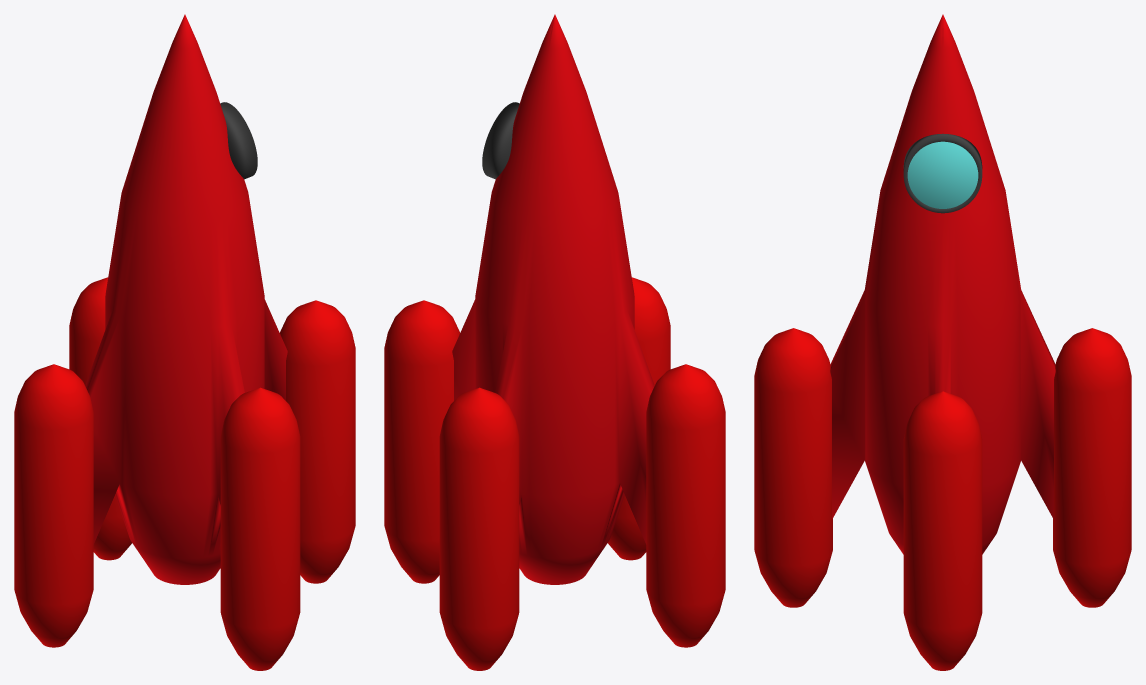
The model's file is rocket.fbx.
The picture shows the model from 3 angles, left to right: view 1: azimuth 30°, elevation 25°; view 2: azimuth 150°, elevation 25°; view 3: azimuth 270°, elevation 25°; orthographic projection.
Visible parts, largest first — view 1: body, engines, windowframe; view 2: body, engines, windowframe; view 3: engines, body, window, windowframe.
Boxes of the visible parts, bbox=[...] form: body: bbox=[85, 14, 287, 584]; engines: bbox=[14, 277, 355, 670]; windowframe: bbox=[220, 102, 257, 179]; body: bbox=[452, 14, 654, 584]; engines: bbox=[384, 277, 725, 670]; windowframe: bbox=[482, 102, 519, 179]; engines: bbox=[754, 328, 1131, 670]; body: bbox=[830, 14, 1055, 554]; window: bbox=[907, 141, 978, 208]; windowframe: bbox=[903, 133, 982, 213].
Size of the model in its own units: 480 by 827 by 480.
